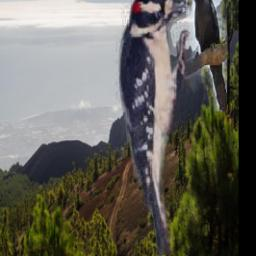Crow: (187, 0, 228, 111)
Woodpecker: (115, 0, 192, 255)
